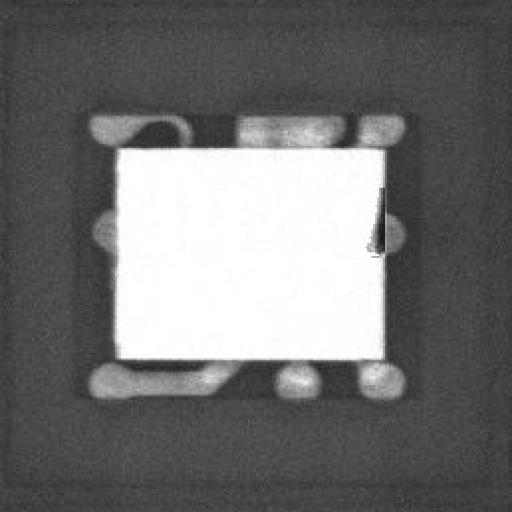DIE_BROKEN: (361, 182, 391, 262)
